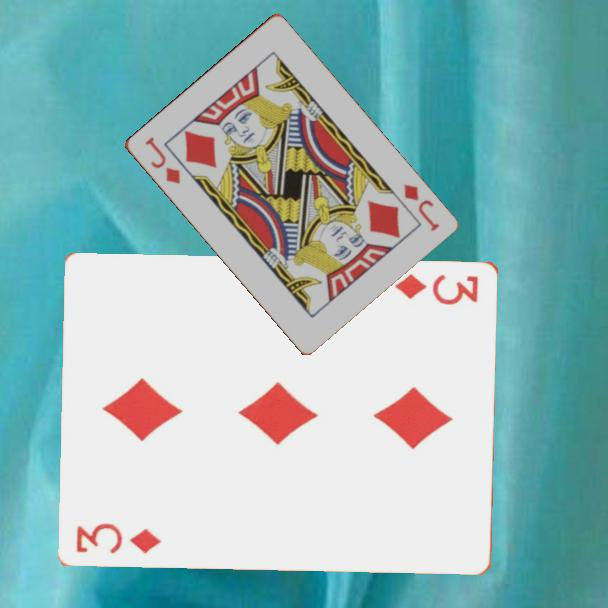d03: (73, 519, 164, 556), (392, 269, 482, 306)
d11: (141, 133, 183, 187), (400, 180, 442, 234)
